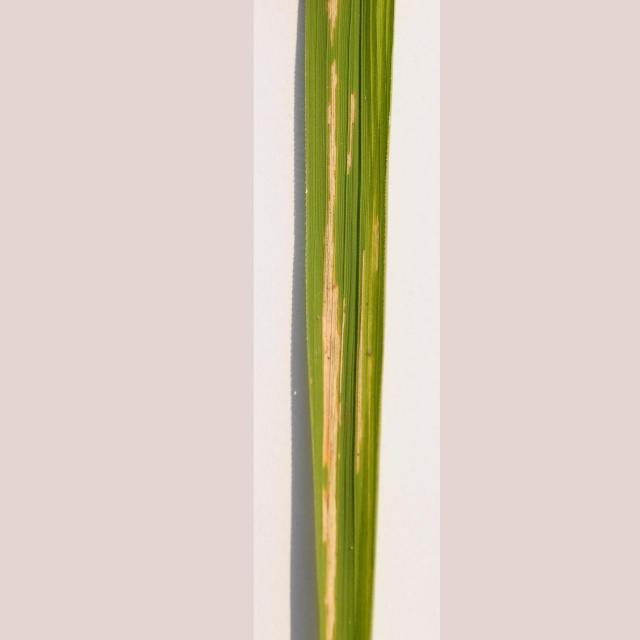leaf blight: (308, 2, 388, 640)
